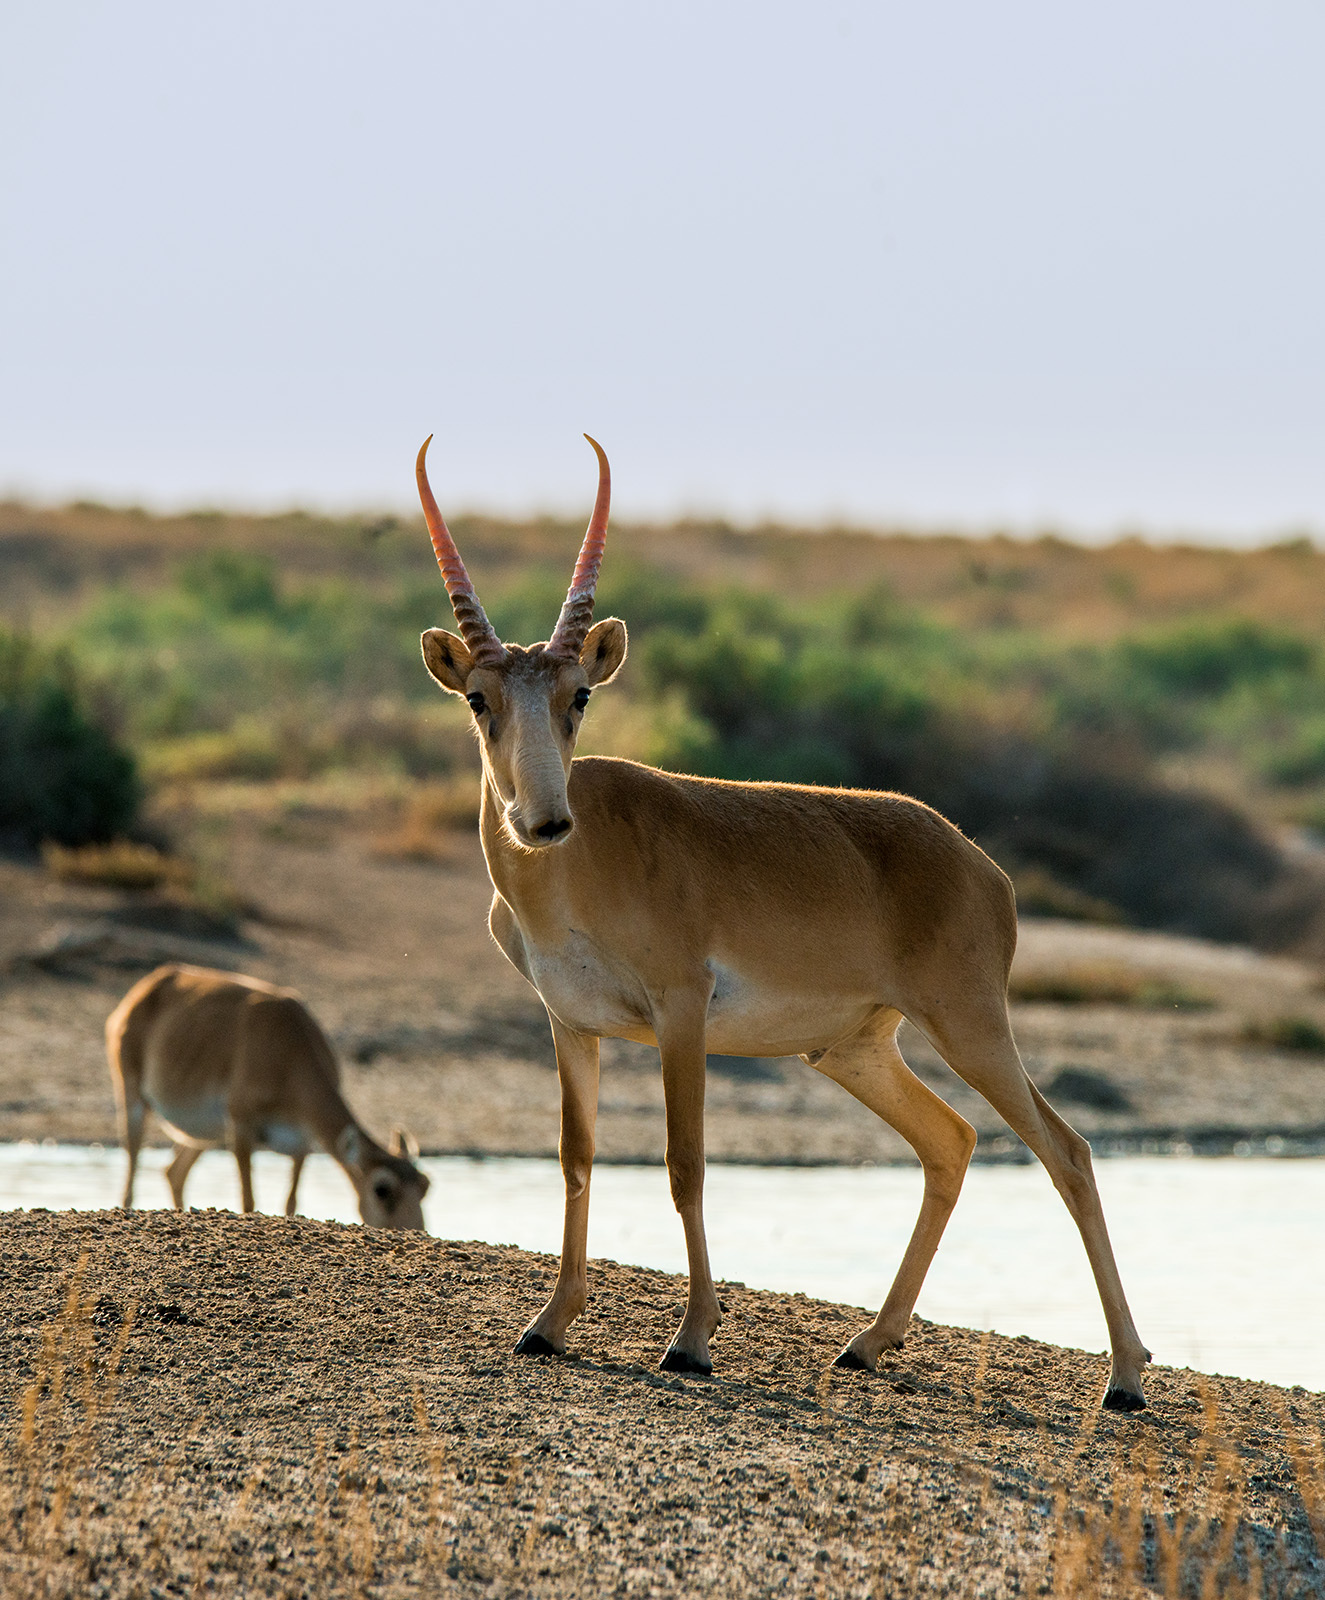saiga: (411, 431, 1172, 1421)
